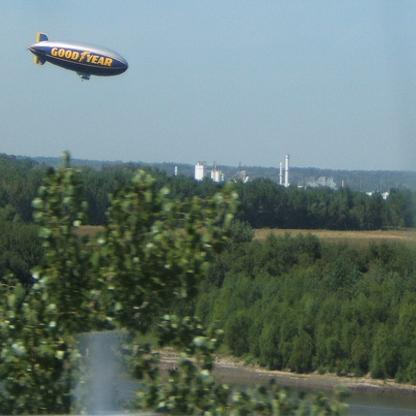Airship: (26, 30, 135, 89)
